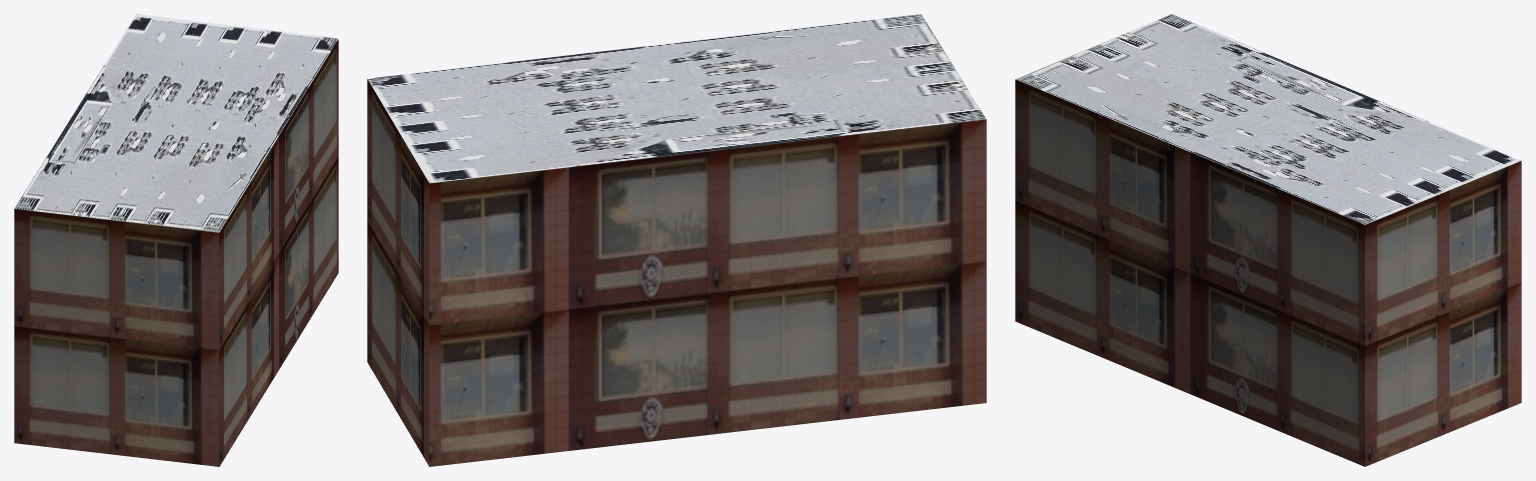
Rendered from ResTex__5281.fbx.
The picture shows the model from 3 angles, left to right: view 1: azimuth 30°, elevation 25°; view 2: azimuth 150°, elevation 25°; view 3: azimuth 270°, elevation 25°; orthographic projection. The views are drawn at different scales.
Visible parts, largest first — view 1: CityEngineMaterial_13_m, CityEngineMaterial_2_m; view 2: CityEngineMaterial_13_m, CityEngineMaterial_2_m; view 3: CityEngineMaterial_13_m, CityEngineMaterial_2_m.
Part boxes in pixels (x1,y1,x2,y2): CityEngineMaterial_13_m: (14,39,338,466); CityEngineMaterial_2_m: (14,14,338,232); CityEngineMaterial_13_m: (367,79,986,466); CityEngineMaterial_2_m: (367,14,985,183); CityEngineMaterial_13_m: (1015,79,1521,466); CityEngineMaterial_2_m: (1015,14,1520,224).
Bounding box in the file's own units: 11.2 × 6 × 11.37.
2 materials, 2 textured.
